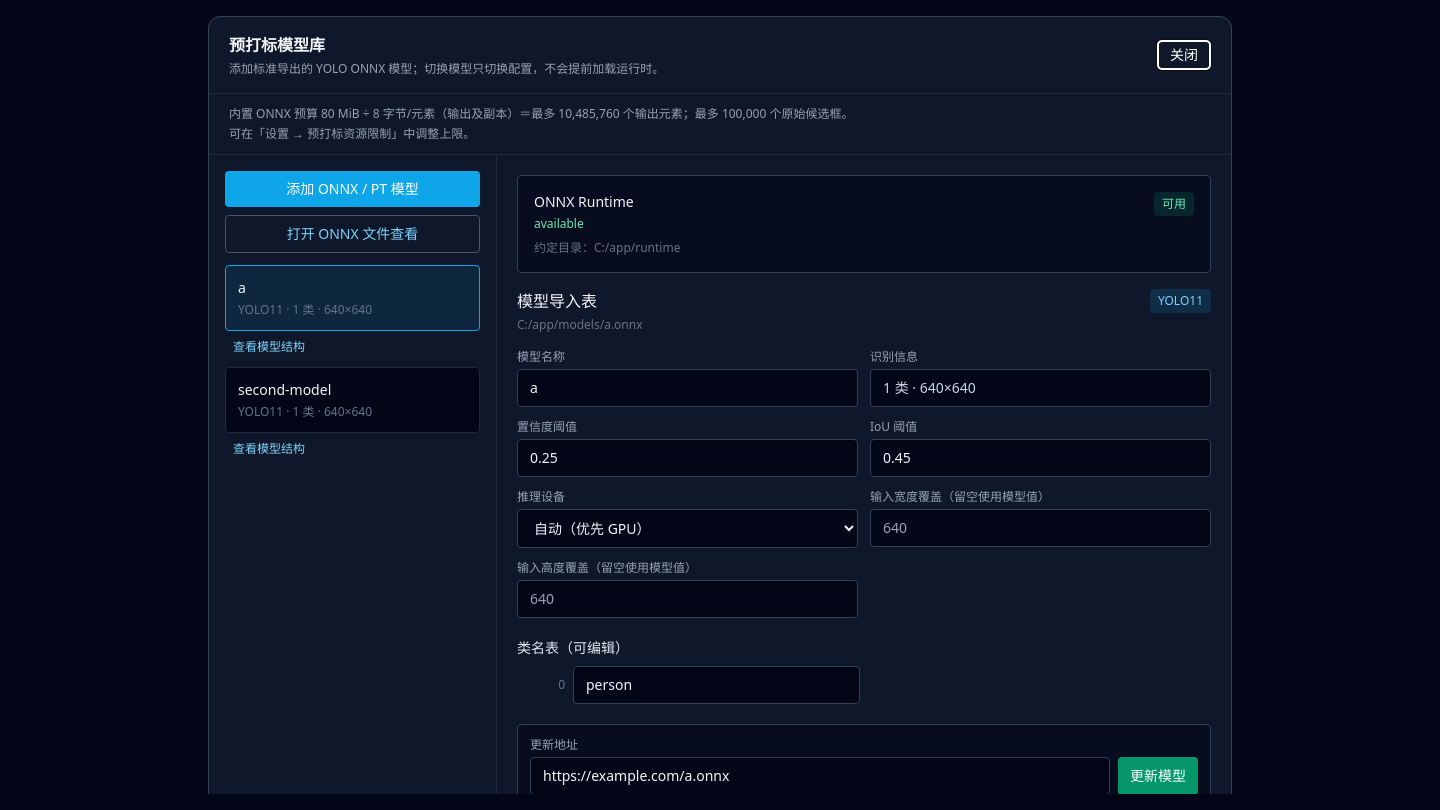
Test case: persists a completed download even when cancellation is accepted
Step 1. Click the button "更新模型" → (1158, 776), box [1118,757,1198,795]
(page scrolled)
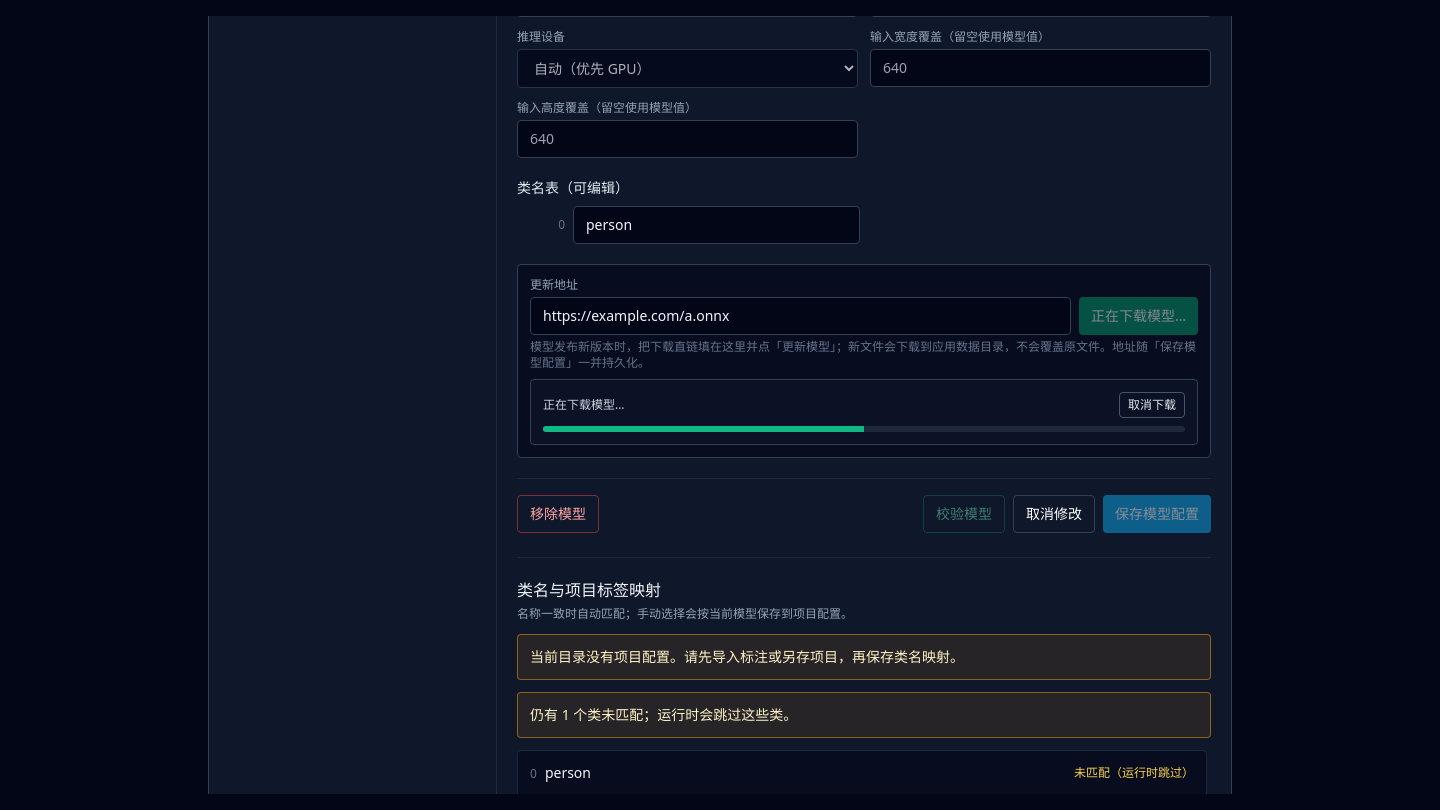
Step 2. Click the button "取消下载" → (1152, 405), box [1119,392,1185,418]
(page scrolled)
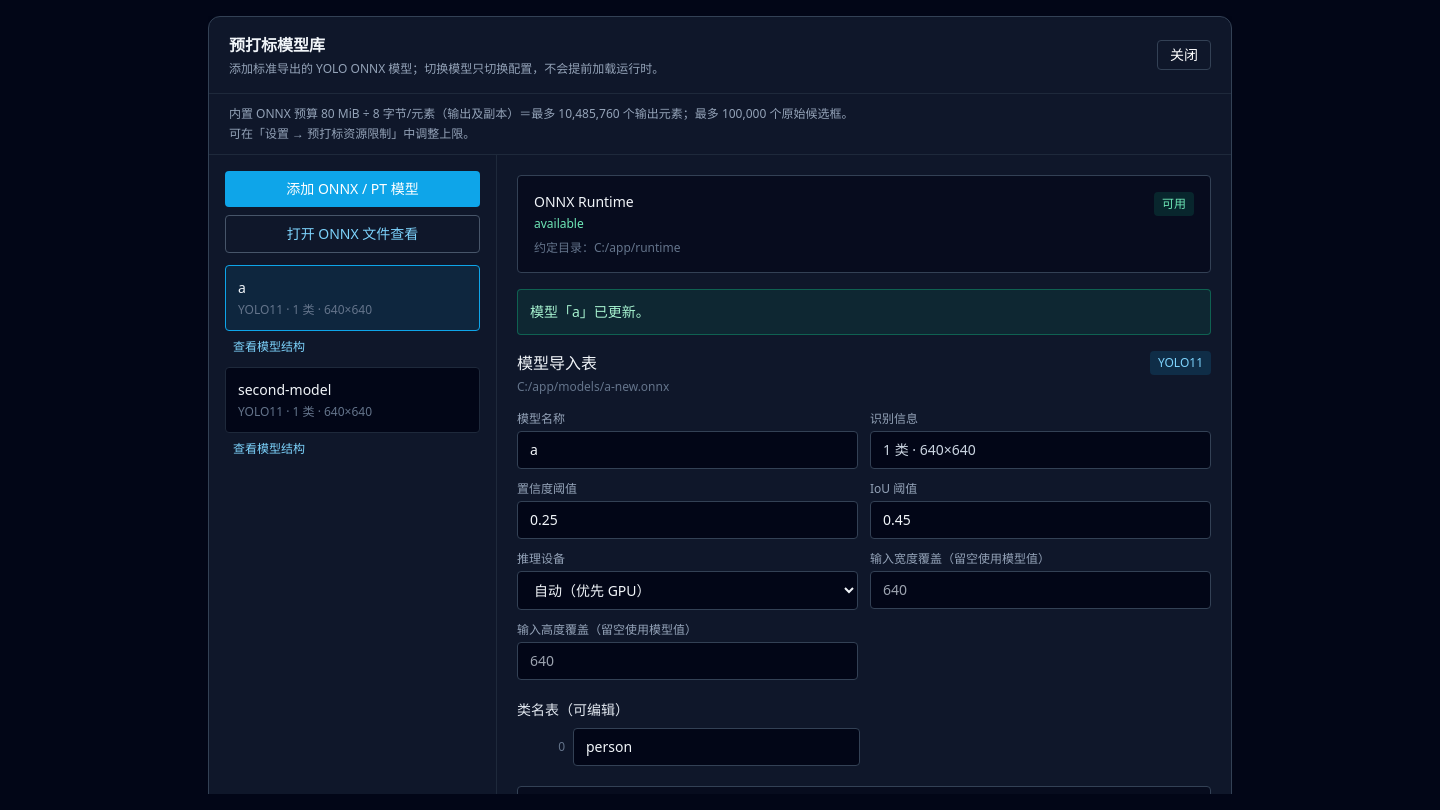
expect the text "C:/app/models/a-new.onnx" is shown: met, box [517,379,669,395]
